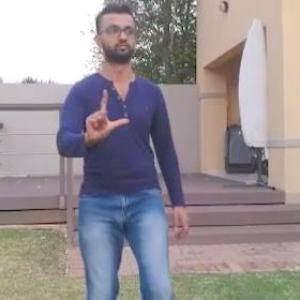land_hand: (78, 83, 132, 149)
